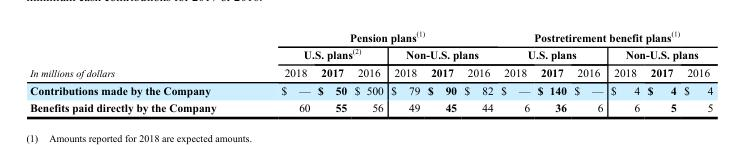table: (29, 28, 712, 113)
table column: (29, 28, 248, 113), (248, 28, 313, 113), (349, 28, 386, 113), (386, 28, 423, 113), (459, 28, 496, 113), (496, 28, 533, 113), (569, 28, 606, 113), (642, 28, 679, 113), (313, 28, 349, 113), (423, 28, 459, 113), (533, 28, 569, 113), (606, 28, 642, 113), (679, 28, 712, 113)
table column header: (29, 28, 712, 81)
table row: (29, 44, 712, 63), (29, 63, 712, 81), (29, 81, 712, 98), (29, 28, 712, 44), (29, 98, 712, 113)
table spanning cell: (29, 28, 248, 81), (248, 28, 496, 44), (496, 28, 712, 44), (248, 44, 386, 63), (386, 44, 496, 63), (496, 44, 606, 63), (606, 44, 712, 63)
